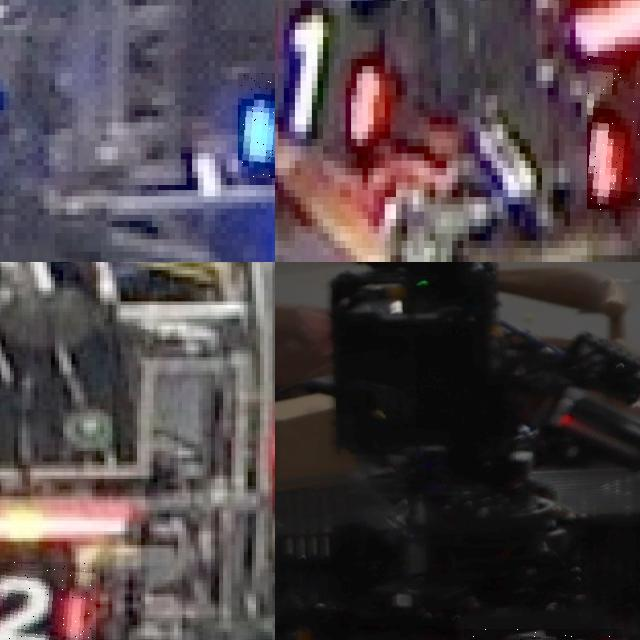B2: (238, 73, 275, 177)
R1: (275, 0, 396, 153), (587, 51, 640, 211)
R2: (0, 562, 96, 640)
